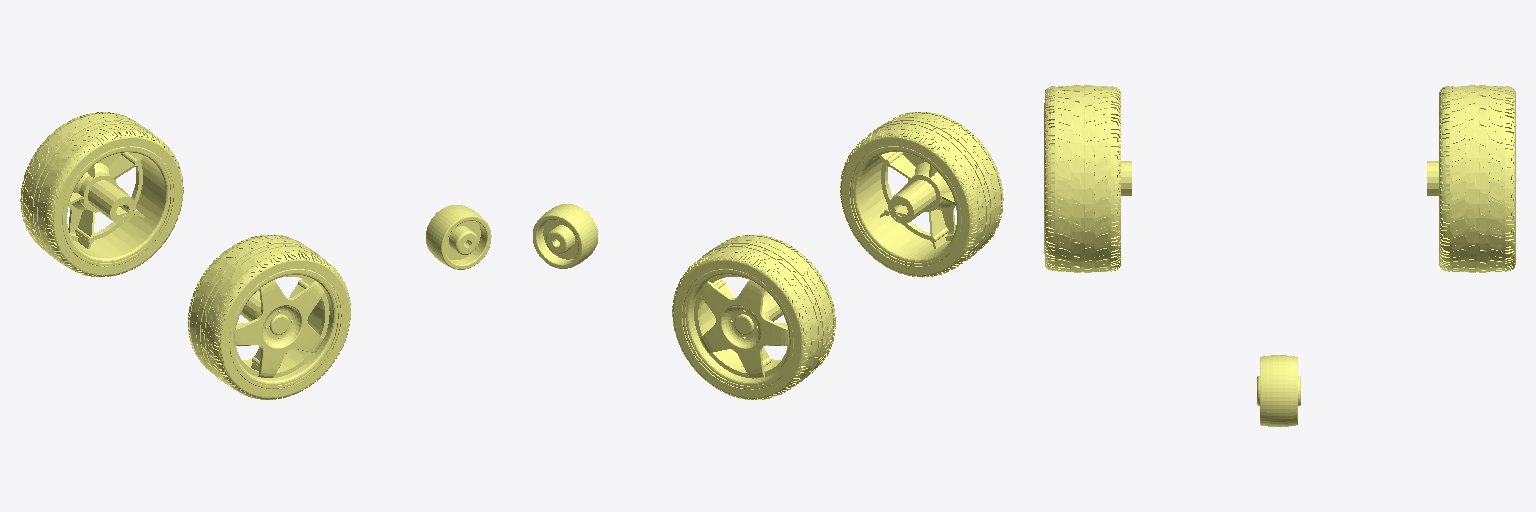
URDF robot description (robot_ros2):

<robot
  name="robot_ros2">
  <link
    name="base_link">
    <inertial>
      <origin
        xyz="-0.002625 4.118E-07 -0.0053906"
        rpy="0 0 0" />
      <mass
        value="0.07693" />
      <inertia
        ixx="4.8601E-05"
        ixy="-5.9011E-08"
        ixz="5.9417E-12"
        iyy="0.00018243"
        iyz="2.4765E-10"
        izz="0.00022862" />
    </inertial>
    <visual>
      <origin
        xyz="0 0 0"
        rpy="0 0 0" />
      <geometry>
        <mesh
          filename="package://Robot_Smart_Car/meshes/base_link.STL" />
      </geometry>
      <material
        name="">
        <color
          rgba="0.96471 0.96471 0.95294 1" />
      </material>
    </visual>
    <collision>
      <origin
        xyz="0 0 0"
        rpy="0 0 0" />
      <geometry>
        <mesh
          filename="package://Robot_Smart_Car/meshes/base_link.STL" />
      </geometry>
    </collision>
  </link>
  <link
    name="left_wheel_link">
    <inertial>
      <origin
        xyz="3.4688E-05 -9.4118E-06 -0.008522"
        rpy="0 0 0" />
      <mass
        value="0.020682" />
      <inertia
        ixx="7.4547E-06"
        ixy="-1.3955E-10"
        ixz="3.9863E-10"
        iyy="7.4483E-06"
        iyz="4.8992E-10"
        izz="1.2038E-05" />
    </inertial>
    <visual>
      <origin
        xyz="0 0 0"
        rpy="0 0 0" />
      <geometry>
        <mesh
          filename="package://Robot_Smart_Car/meshes/left_wheel_link.STL" />
      </geometry>
      <material
        name="">
        <color
          rgba="1 1 0.6 1" />
      </material>
    </visual>
    <collision>
      <origin
        xyz="0 0 0"
        rpy="0 0 0" />
      <geometry>
        <mesh
          filename="package://Robot_Smart_Car/meshes/left_wheel_link.STL" />
      </geometry>
    </collision>
  </link>
  <joint
    name="left_wheel_joint"
    type="continuous">
    <origin
      xyz="-0.025491 0.076487 -0.013817"
      rpy="-1.5708 0 0" />
    <parent
      link="base_link" />
    <child
      link="left_wheel_link" />
    <axis
      xyz="0 0 1" />
    <limit
      effort="10"
      velocity="10" />
    <dynamics
      damping="0.1"
      friction="0.1" />
  </joint>
  <link
    name="right_wheel_link">
    <inertial>
      <origin
        xyz="4.1055E-05 4.461E-06 0.0086062"
        rpy="0 0 0" />
      <mass
        value="0.020682" />
      <inertia
        ixx="7.4547E-06"
        ixy="1.3954E-10"
        ixz="-3.9865E-10"
        iyy="7.4483E-06"
        iyz="4.8991E-10"
        izz="1.2038E-05" />
    </inertial>
    <visual>
      <origin
        xyz="0 0 0"
        rpy="0 0 0" />
      <geometry>
        <mesh
          filename="package://Robot_Smart_Car/meshes/right_wheel_link.STL" />
      </geometry>
      <material
        name="">
        <color
          rgba="1 1 0.6 1" />
      </material>
    </visual>
    <collision>
      <origin
        xyz="0 0 0"
        rpy="0 0 0" />
      <geometry>
        <mesh
          filename="package://Robot_Smart_Car/meshes/right_wheel_link.STL" />
      </geometry>
    </collision>
  </link>
  <joint
    name="right_wheel_joint"
    type="continuous">
    <origin
      xyz="-0.025506 -0.076573 -0.013795"
      rpy="-1.5708 0 0" />
    <parent
      link="base_link" />
    <child
      link="right_wheel_link" />
    <axis
      xyz="0 0 1" />
    <limit
      effort="10"
      velocity="10" />
    <dynamics
      damping="0.1"
      friction="0.1" />
  </joint>
  <link
    name="caster">
    <inertial>
      <origin
        xyz="0.0015802 1.9164E-05 0.00069775"
        rpy="0 0 0" />
      <mass
        value="0.0036033" />
      <inertia
        ixx="2.6353E-07"
        ixy="-1.7459E-11"
        ixz="2.1045E-08"
        iyy="2.2536E-07"
        iyz="-6.9422E-13"
        izz="4.0914E-07" />
    </inertial>
    <visual>
      <origin
        xyz="0 0 0"
        rpy="0 0 0" />
      <geometry>
        <mesh
          filename="package://Robot_Smart_Car/meshes/caster.STL" />
      </geometry>
      <material
        name="">
        <color
          rgba="1 1 0.6 1" />
      </material>
    </visual>
    <collision>
      <origin
        xyz="0 0 0"
        rpy="0 0 0" />
      <geometry>
        <mesh
          filename="package://Robot_Smart_Car/meshes/caster.STL" />
      </geometry>
    </collision>
  </link>
  <joint
    name="casterjoint"
    type="continuous">
    <origin
      xyz="0.087 -0.00029187 -0.016548"
      rpy="0 0 0" />
    <parent
      link="base_link" />
    <child
      link="caster" />
    <axis
      xyz="0 0 1" />
    <limit
      effort="10"
      velocity="10" />
  </joint>
  <link
    name="caster_wheel_link">
    <inertial>
      <origin
        xyz="2.3025E-07 -8.5276E-08 8.9467E-11"
        rpy="0 0 0" />
      <mass
        value="0.0039329" />
      <inertia
        ixx="2.0877E-07"
        ixy="1.687E-11"
        ixz="-4.9223E-13"
        iyy="2.0875E-07"
        iyz="-2.8931E-13"
        izz="3.1659E-07" />
    </inertial>
    <visual>
      <origin
        xyz="0 0 0"
        rpy="0 0 0" />
      <geometry>
        <mesh
          filename="package://Robot_Smart_Car/meshes/caster_wheel_link.STL" />
      </geometry>
      <material
        name="">
        <color
          rgba="1 1 0.6 1" />
      </material>
    </visual>
    <collision>
      <origin
        xyz="0 0 0"
        rpy="0 0 0" />
      <geometry>
        <mesh
          filename="package://Robot_Smart_Car/meshes/caster_wheel_link.STL" />
      </geometry>
    </collision>
  </link>
  <joint
    name="caster_wheel_joint"
    type="continuous">
    <origin
      xyz="0.0143 -0.0001 -0.018252"
      rpy="-1.5708 0 0" />
    <parent
      link="caster" />
    <child
      link="caster_wheel_link" />
    <axis
      xyz="0 0 -1" />
    <limit
      effort="10"
      velocity="10" />
    <dynamics
      damping="0.1"
      friction="0.1" />
  </joint>
</robot>

--- Facts derived from the render (not from the file) ---
The picture shows the robot from 3 angles, left to right: view 1: azimuth 30°, elevation 25°; view 2: azimuth 150°, elevation 25°; view 3: azimuth 270°, elevation 25°; orthographic projection.
Model robot_ros2 with 5 links and 4 joints (4 continuous), rooted at base_link, posed every joint at zero.
Visible links, largest first — view 1: right_wheel_link, left_wheel_link, caster_wheel_link; view 2: left_wheel_link, right_wheel_link, caster_wheel_link; view 3: left_wheel_link, right_wheel_link, caster_wheel_link.
Link boxes in pixels (x1,y1,x2,y2): right_wheel_link: [188, 235, 350, 399]; left_wheel_link: [20, 112, 183, 276]; caster_wheel_link: [426, 205, 491, 269]; left_wheel_link: [672, 235, 835, 399]; right_wheel_link: [840, 112, 1003, 277]; caster_wheel_link: [533, 204, 597, 268]; left_wheel_link: [1427, 85, 1515, 272]; right_wheel_link: [1044, 85, 1131, 272]; caster_wheel_link: [1257, 355, 1300, 426].
Size in the robot's own frame: 0.1711 by 0.161 by 0.0654 metres.
3 mesh visuals loaded from 5 distinct referenced files (3 binary STL); not drawn: 2 (reference not matched to a file when rendering).
